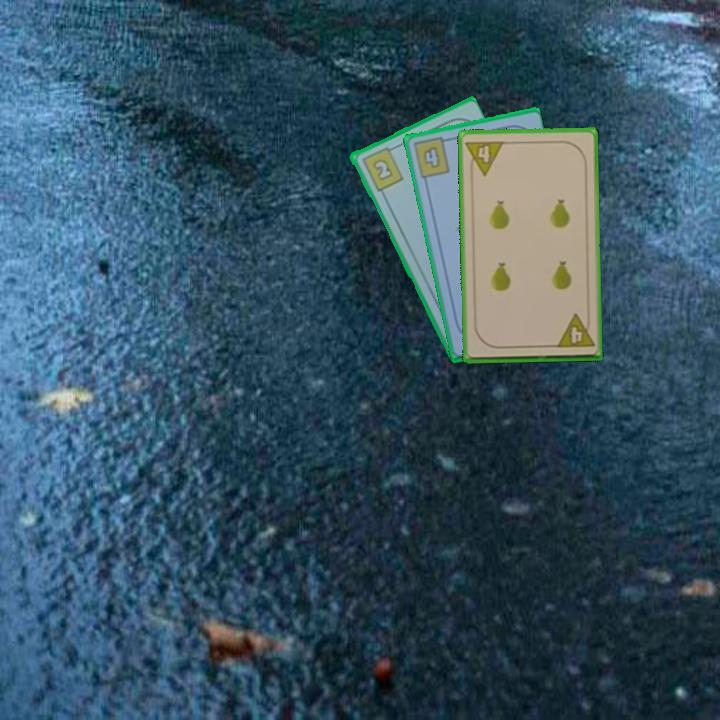2b: (358, 143, 406, 194)
4b: (409, 134, 453, 181)
4p: (462, 137, 507, 178), (553, 311, 597, 351)
